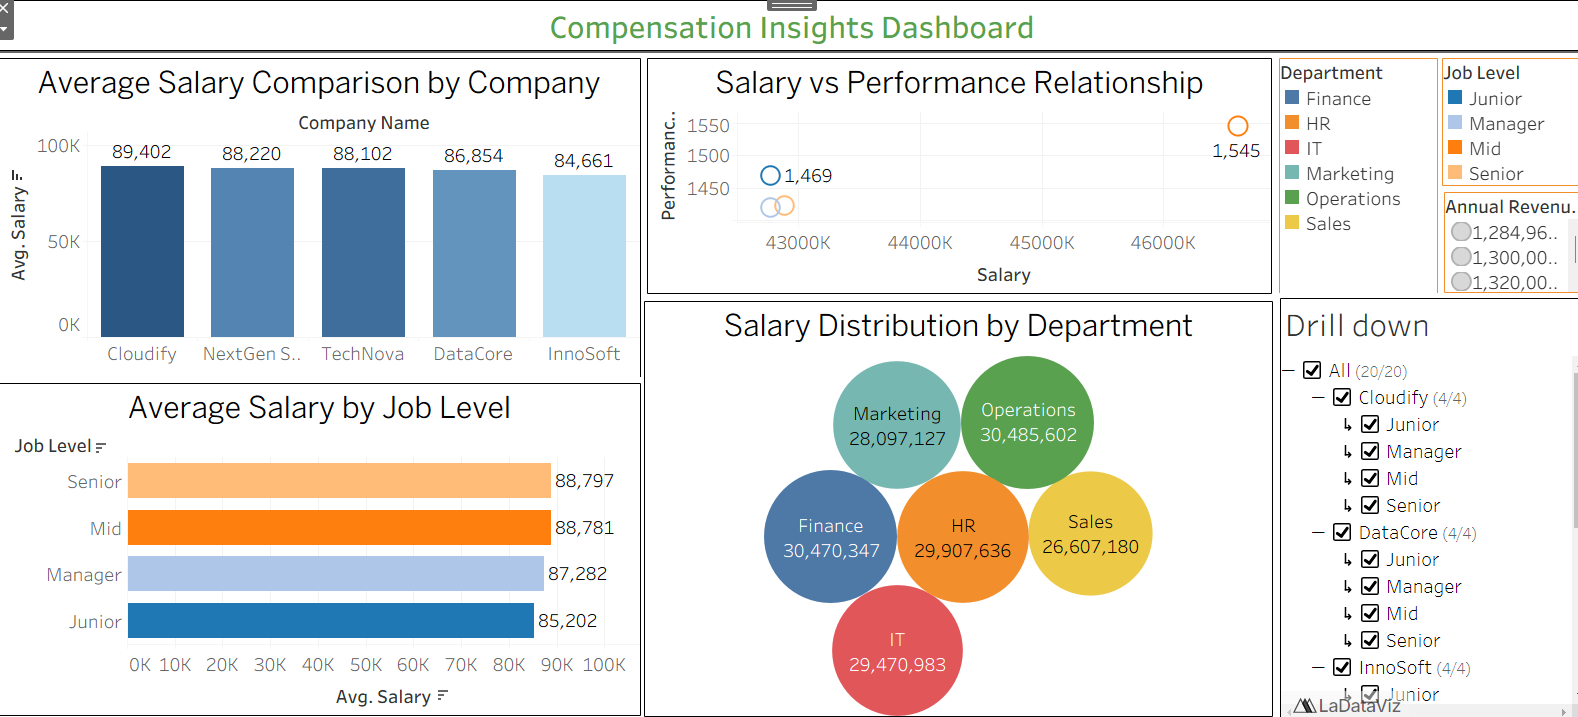

This screenshot's page, from the dashboard's own definition file:
{"tool":"tableau","page":{"name":"Dashboard 2","canvas":[1000,1000],"units":"permille","ordinal":1},"visuals":[{"type":"text","box":[1.9,8,995,69.6]},{"type":"worksheet","title":"AVERAGE SALARY BY COMPANY","mark":"Automatic","rows":["Salary"],"cols":["Company_Name"],"box":[2.5,87,402.5,437.8]},{"type":"worksheet","title":"SALARY VS PERFORMANCE","mark":"Automatic","rows":["Performance_Score"],"cols":["Salary"],"box":[408.8,87,390.6,324]},{"type":"legend","title":"SALARY DISTRIBUTION","param":"[federated.07zks620ny4gbi10tl0fo1t7yrjh].[none:Department:nk]","box":[803.8,87,99.4,322.6]},{"type":"legend","title":"SALARY VS PERFORMANCE","param":"[federated.07zks620ny4gbi10tl0fo1t7yrjh].[none:Job_Level:nk]","box":[905.6,87,91.2,175.4]},{"type":"legend","title":"SALARY VS PERFORMANCE","param":"[federated.07zks620ny4gbi10tl0fo1t7yrjh].[sum:Annual_Revenue_Contribution:qk]","box":[906.9,271.8,89.4,137.9]},{"type":"worksheet","title":"Drill down","box":[804.4,416.3,193.1,579.6]},{"type":"worksheet","title":"SALARY DISTRIBUTION","mark":"Circle","box":[406.9,420.4,393.1,570.3]},{"type":"worksheet","title":"JOB LEVEL ANALYSIS","mark":"Automatic","rows":["Job_Level"],"cols":["Salary"],"box":[3.1,532.8,401.9,456.5]}]}

Visuals, with their boxes on the dashboard's canvas, which has no fixed pixel size, in thousandths of its width and height (x1, y1, x2, y2). These are canvas units, not pixel positions in the 1578x717 screenshot, which may show the page scaled, cropped or inside an application window:
text: 2 8 997 78
"AVERAGE SALARY BY COMPANY" worksheet: 2 87 405 525
"SALARY VS PERFORMANCE" worksheet: 409 87 799 411
"SALARY DISTRIBUTION" legend: 804 87 903 410
"SALARY VS PERFORMANCE" legend: 906 87 997 262
"SALARY VS PERFORMANCE" legend: 907 272 996 410
"Drill down" worksheet: 804 416 998 996
"SALARY DISTRIBUTION" worksheet (Circle marks): 407 420 800 991
"JOB LEVEL ANALYSIS" worksheet: 3 533 405 989
